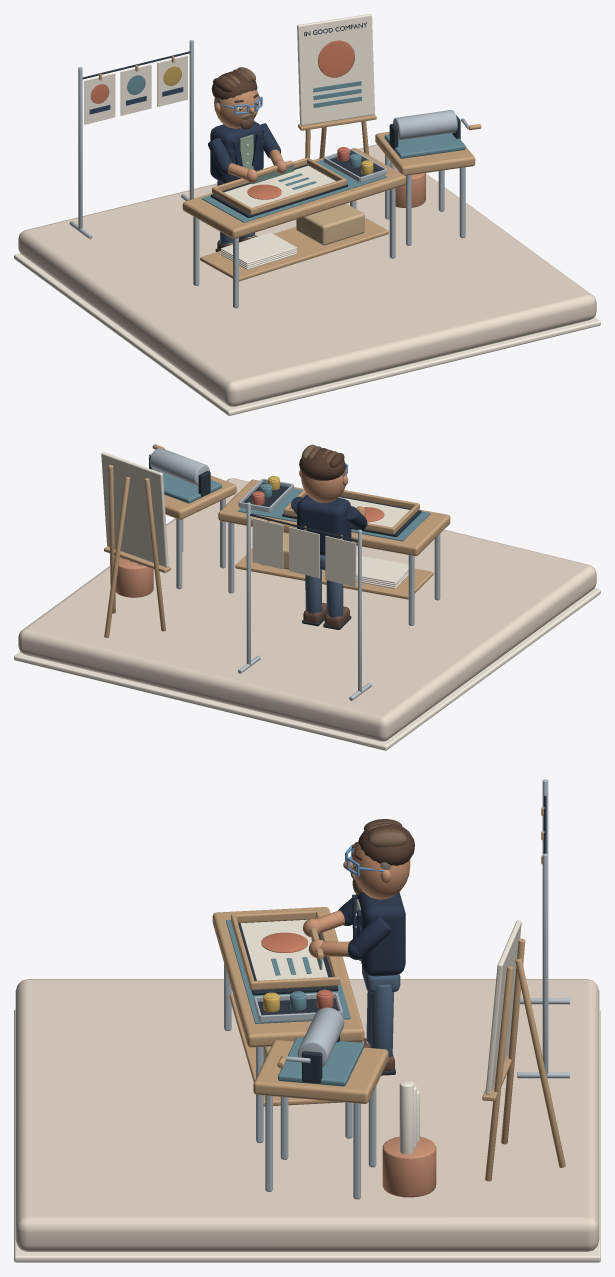
File: graphic-arts.glb
3 views of the same model, one above another, from view 1: azimuth 30°, elevation 25°; view 2: azimuth 150°, elevation 25°; view 3: azimuth 270°, elevation 25° (orthographic). The views are drawn at different scales.
Visible parts, largest first — view 1: Square floating plinth.002, Poster board, Ivory lower edge.002, Oak desktop.001, Paper storage shelf, Studio storage box, Oak desktop.002, Cotton paper, Print roller, Jacket body.002, Press base, Blank paper stack.003 (+12 smaller); view 2: Square floating plinth.002, Ivory lower edge.002, Poster board, Oak desktop.001, Jacket body.002, Paper storage shelf, Art paper.002, Art paper, Art paper.001, Print roller, Roll stock bin, Oak desktop.002 (+19 smaller); view 3: Square floating plinth.002, Ivory lower edge.002, Oak desktop.001, Oak desktop.002, Cotton paper, Roll stock bin, Jacket body.002, Poster board, Press base, Face.002, Easel back leg, Easel front leg.001 (+16 smaller).
Boxes of the visible parts, left/top/right/bottom form: Square floating plinth.002: left=18, top=144, right=596, bottom=406; Poster board: left=297, top=14, right=374, bottom=125; Ivory lower edge.002: left=14, top=253, right=600, bottom=415; Oak desktop.001: left=182, top=148, right=406, bottom=238; Paper storage shelf: left=200, top=217, right=388, bottom=281; Studio storage box: left=296, top=203, right=364, bottom=245; Oak desktop.002: left=375, top=132, right=475, bottom=175; Cotton paper: left=224, top=165, right=335, bottom=207; Print roller: left=393, top=110, right=457, bottom=140; Jacket body.002: left=210, top=121, right=263, bottom=183; Press base: left=384, top=133, right=465, bottom=158; Blank paper stack.003: left=221, top=232, right=296, bottom=264; Square floating plinth.002: left=18, top=478, right=596, bottom=741; Ivory lower edge.002: left=14, top=588, right=600, bottom=750; Poster board: left=101, top=452, right=168, bottom=567; Oak desktop.001: left=218, top=479, right=450, bottom=556; Jacket body.002: left=297, top=494, right=351, bottom=555; Paper storage shelf: left=235, top=548, right=433, bottom=599; Art paper.002: left=252, top=518, right=283, bottom=569; Art paper: left=325, top=536, right=356, bottom=587; Art paper.001: left=289, top=527, right=319, bottom=578; Print roller: left=149, top=448, right=209, bottom=486; Roll stock bin: left=115, top=557, right=153, bottom=597; Oak desktop.002: left=164, top=475, right=236, bottom=519; Square floating plinth.002: left=15, top=979, right=599, bottom=1251; Ivory lower edge.002: left=14, top=1009, right=600, bottom=1262; Oak desktop.001: left=212, top=907, right=364, bottom=1047; Oak desktop.002: left=253, top=1040, right=388, bottom=1103; Cotton paper: left=240, top=919, right=327, bottom=980; Roll stock bin: left=382, top=1136, right=436, bottom=1197; Jacket body.002: left=356, top=891, right=405, bottom=976; Poster board: left=485, top=920, right=521, bottom=1094; Press base: left=278, top=1037, right=363, bottom=1086; Face.002: left=352, top=841, right=410, bottom=899; Easel back leg: left=515, top=958, right=565, bottom=1167; Easel front leg.001: left=485, top=966, right=513, bottom=1181.
Size of the model in its own units: 5.23 by 2.81 by 5.23.
